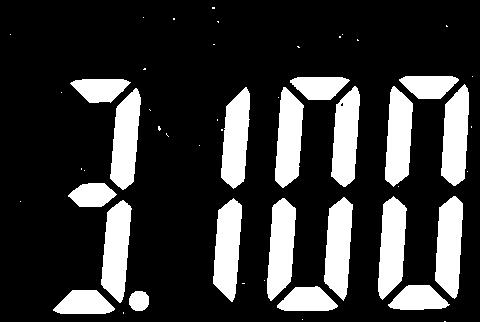0: (264, 71, 363, 312), (375, 74, 470, 310)
1: (210, 84, 251, 303)
3: (50, 72, 141, 314)
dot: (128, 290, 151, 313)
